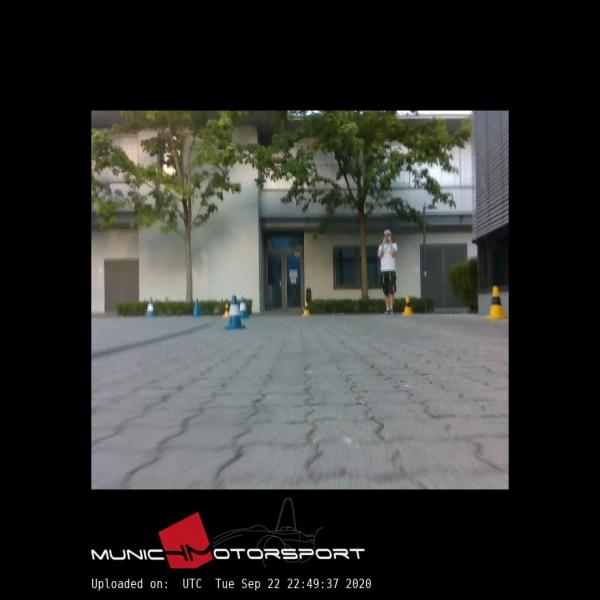blue_cone: (224, 295, 246, 329), (238, 296, 248, 317), (192, 298, 202, 316), (146, 298, 155, 317)
yellow_cone: (486, 286, 507, 319), (401, 295, 414, 317), (302, 302, 311, 316), (224, 304, 230, 318)
